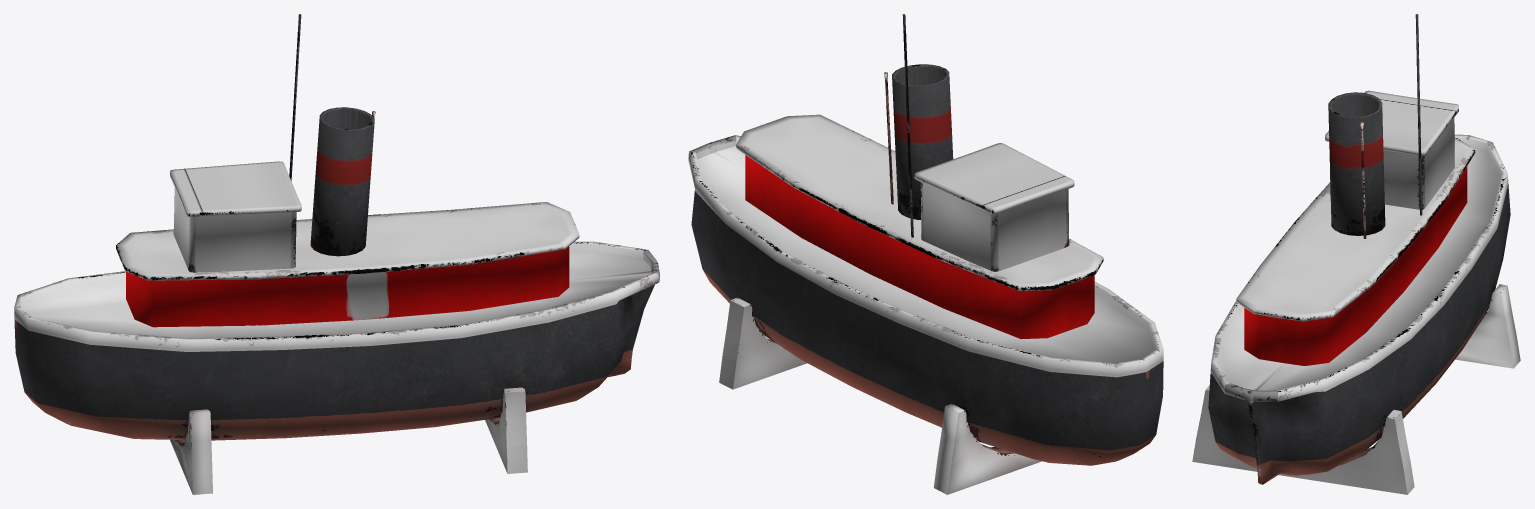
The model's file is TI_Tugboat.FBX.
The picture shows the model from 3 angles, left to right: view 1: azimuth 30°, elevation 25°; view 2: azimuth 150°, elevation 25°; view 3: azimuth 270°, elevation 25°; orthographic projection. The views are drawn at different scales.
Visible parts, largest first — view 1: TI_TugBoat; view 2: TI_TugBoat; view 3: TI_TugBoat.
Boxes of the visible parts, left/top/right/bottom form: TI_TugBoat: left=14, top=14, right=659, bottom=494; TI_TugBoat: left=688, top=14, right=1163, bottom=494; TI_TugBoat: left=1192, top=14, right=1520, bottom=494.
Size of the model in its own units: 38.18 by 27.18 by 20.57.
